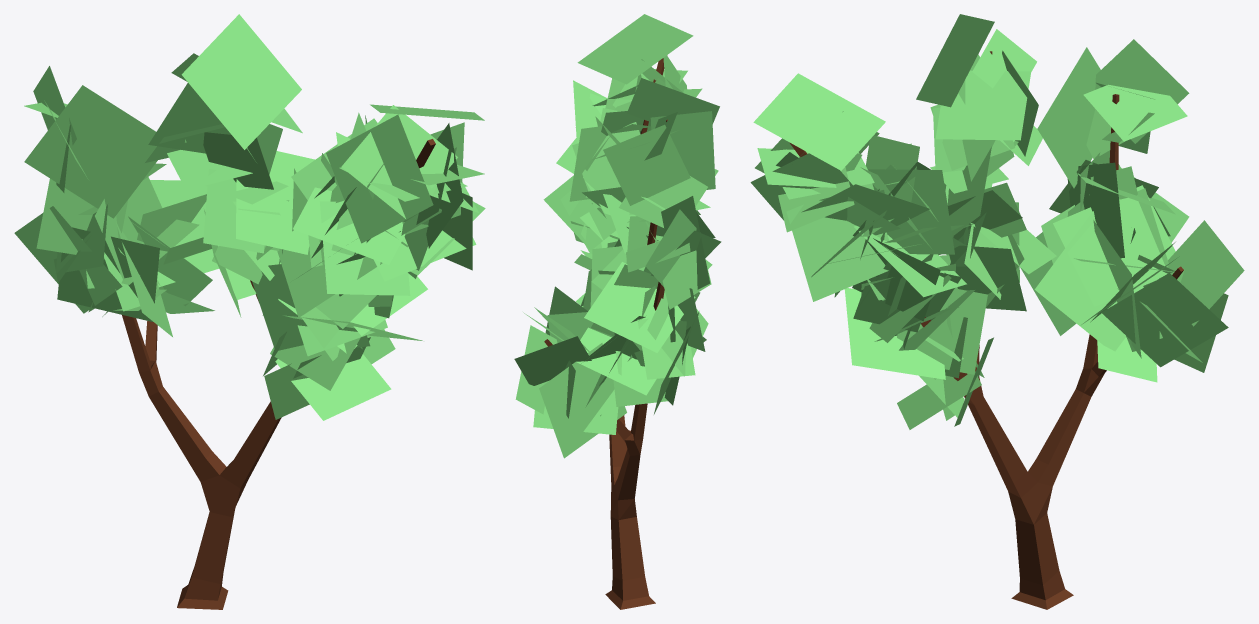
Rendered from tree02.fbx.
3 renders of one model, left to right at view 1: azimuth 30°, elevation 25°; view 2: azimuth 150°, elevation 25°; view 3: azimuth 270°, elevation 25°, orthographic. The views are drawn at different scales.
Visible parts, largest first — view 1: Vert.021, Vert.021|Plane.007|Dupli|99, Vert.021|Plane.007|Dupli|2, Vert.021|Plane.007|Dupli|82, Vert.021|Plane.007|Dupli|31, Vert.021|Plane.007|Dupli|119, Vert.021|Plane.007|Dupli|80, Vert.021|Plane.007|Dupli|14, Vert.021|Plane.007|Dupli|68, Vert.021|Plane.007|Dupli|65, Vert.021|Plane.007|Dupli|10, Vert.021|Plane.007|Dupli|96 (+34 smaller); view 2: Vert.021, Vert.021|Plane.007|Dupli|108, Vert.021|Plane.007|Dupli|85, Vert.021|Plane.007|Dupli|41, Vert.021|Plane.007|Dupli|92, Vert.021|Plane.007|Dupli|43, Vert.021|Plane.007|Dupli|2, Vert.021|Plane.007|Dupli|115, Vert.021|Plane.007|Dupli|87, Vert.021|Plane.007|Dupli|58, Vert.021|Plane.007|Dupli|35, Vert.021|Plane.007|Dupli|103 (+30 smaller); view 3: Vert.021, Vert.021|Plane.007|Dupli|85, Vert.021|Plane.007|Dupli|109, Vert.021|Plane.007|Dupli|90, Vert.021|Plane.007|Dupli|71, Vert.021|Plane.007|Dupli|40, Vert.021|Plane.007|Dupli|99, Vert.021|Plane.007|Dupli|52, Vert.021|Plane.007|Dupli|123, Vert.021|Plane.007|Dupli|115, Vert.021|Plane.007|Dupli|2, Vert.021|Plane.007|Dupli|5 (+36 smaller).
Boxes of the visible parts, bbox=[...] form: Vert.021: bbox=[122, 139, 435, 609]; Vert.021|Plane.007|Dupli|99: bbox=[24, 85, 157, 218]; Vert.021|Plane.007|Dupli|2: bbox=[181, 14, 301, 149]; Vert.021|Plane.007|Dupli|82: bbox=[326, 114, 433, 243]; Vert.021|Plane.007|Dupli|31: bbox=[236, 151, 314, 254]; Vert.021|Plane.007|Dupli|119: bbox=[57, 227, 159, 321]; Vert.021|Plane.007|Dupli|80: bbox=[341, 105, 457, 218]; Vert.021|Plane.007|Dupli|14: bbox=[275, 354, 391, 420]; Vert.021|Plane.007|Dupli|68: bbox=[293, 187, 405, 264]; Vert.021|Plane.007|Dupli|65: bbox=[319, 201, 410, 295]; Vert.021|Plane.007|Dupli|10: bbox=[252, 264, 370, 350]; Vert.021|Plane.007|Dupli|96: bbox=[36, 178, 127, 259]; Vert.021: bbox=[544, 55, 667, 609]; Vert.021|Plane.007|Dupli|108: bbox=[539, 343, 626, 458]; Vert.021|Plane.007|Dupli|85: bbox=[577, 14, 693, 84]; Vert.021|Plane.007|Dupli|41: bbox=[603, 124, 690, 205]; Vert.021|Plane.007|Dupli|92: bbox=[584, 262, 695, 352]; Vert.021|Plane.007|Dupli|43: bbox=[650, 111, 715, 189]; Vert.021|Plane.007|Dupli|2: bbox=[627, 78, 719, 123]; Vert.021|Plane.007|Dupli|115: bbox=[514, 336, 591, 385]; Vert.021|Plane.007|Dupli|87: bbox=[576, 327, 656, 395]; Vert.021|Plane.007|Dupli|58: bbox=[543, 175, 615, 250]; Vert.021|Plane.007|Dupli|35: bbox=[619, 169, 718, 227]; Vert.021|Plane.007|Dupli|103: bbox=[645, 209, 696, 286]; Vert.021: bbox=[789, 51, 1183, 609]; Vert.021|Plane.007|Dupli|85: bbox=[753, 73, 885, 170]; Vert.021|Plane.007|Dupli|109: bbox=[1101, 273, 1228, 367]; Vert.021|Plane.007|Dupli|90: bbox=[1053, 185, 1175, 306]; Vert.021|Plane.007|Dupli|71: bbox=[786, 183, 889, 301]; Vert.021|Plane.007|Dupli|40: bbox=[935, 70, 1031, 140]; Vert.021|Plane.007|Dupli|99: bbox=[1037, 47, 1100, 188]; Vert.021|Plane.007|Dupli|52: bbox=[868, 169, 954, 254]; Vert.021|Plane.007|Dupli|123: bbox=[1034, 211, 1125, 351]; Vert.021|Plane.007|Dupli|115: bbox=[1168, 220, 1244, 326]; Vert.021|Plane.007|Dupli|2: bbox=[916, 14, 994, 107]; Vert.021|Plane.007|Dupli|5: bbox=[844, 288, 945, 379].
Bounding box in the file's own units: 248 × 459 × 354.
